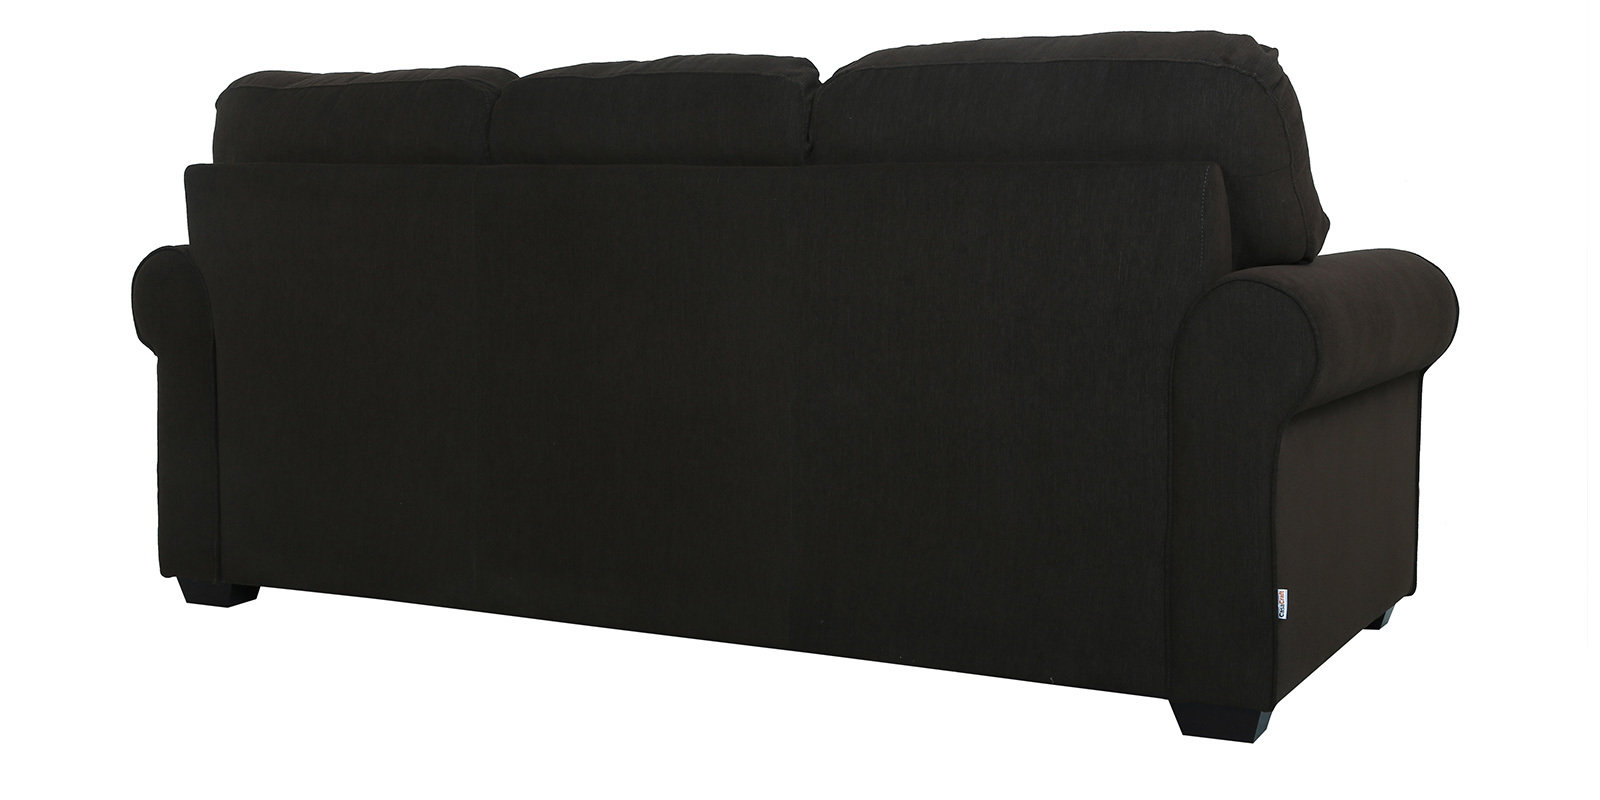Madeira Three Seater Sofa in Chestnut Brown Colour by CasaCraft: (131, 28, 1461, 742)
